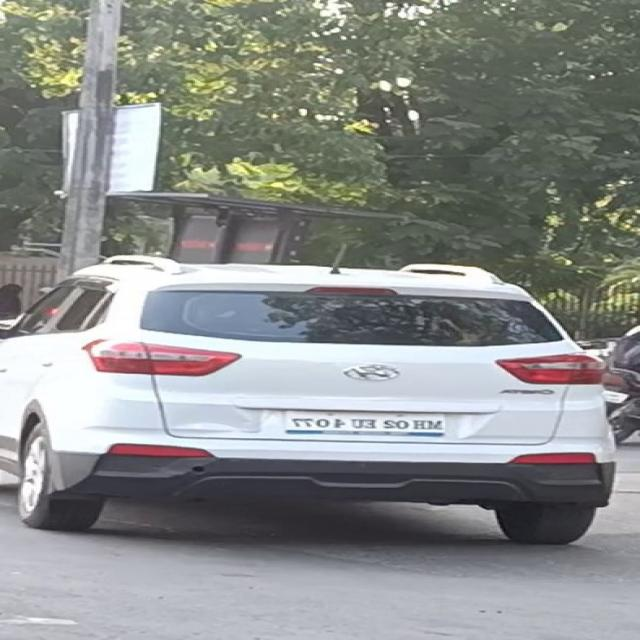license_plate: (266, 405, 459, 443)
